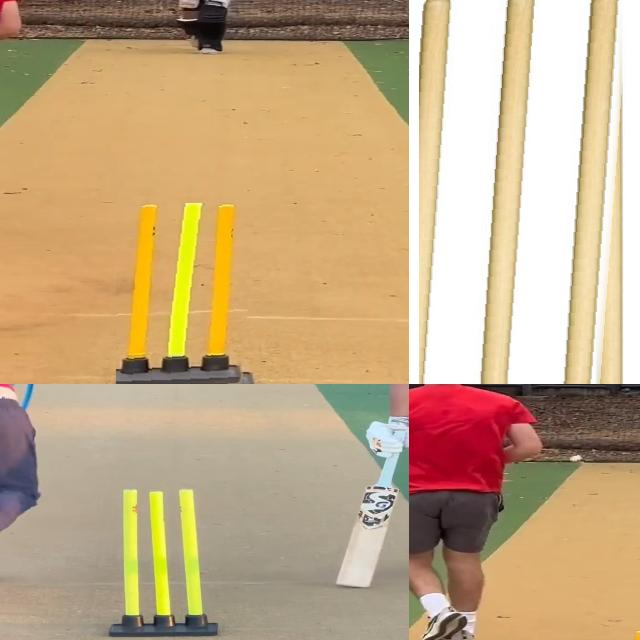Cricket ball: (567, 455, 585, 464)
Stumps: (419, 0, 631, 384), (116, 203, 255, 384), (109, 487, 221, 637)
